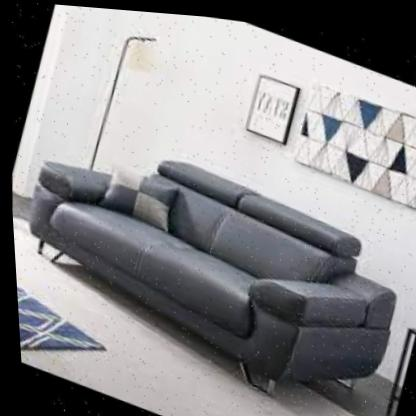Sofa: (4, 76, 416, 416)
